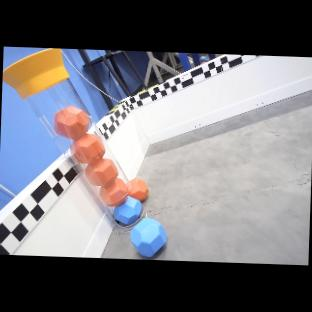Loader: (3, 49, 150, 228)
V5_BLUE: (131, 218, 167, 257), (114, 197, 142, 226)
V5_RED: (128, 178, 148, 202)
redloader: (54, 106, 130, 207)
